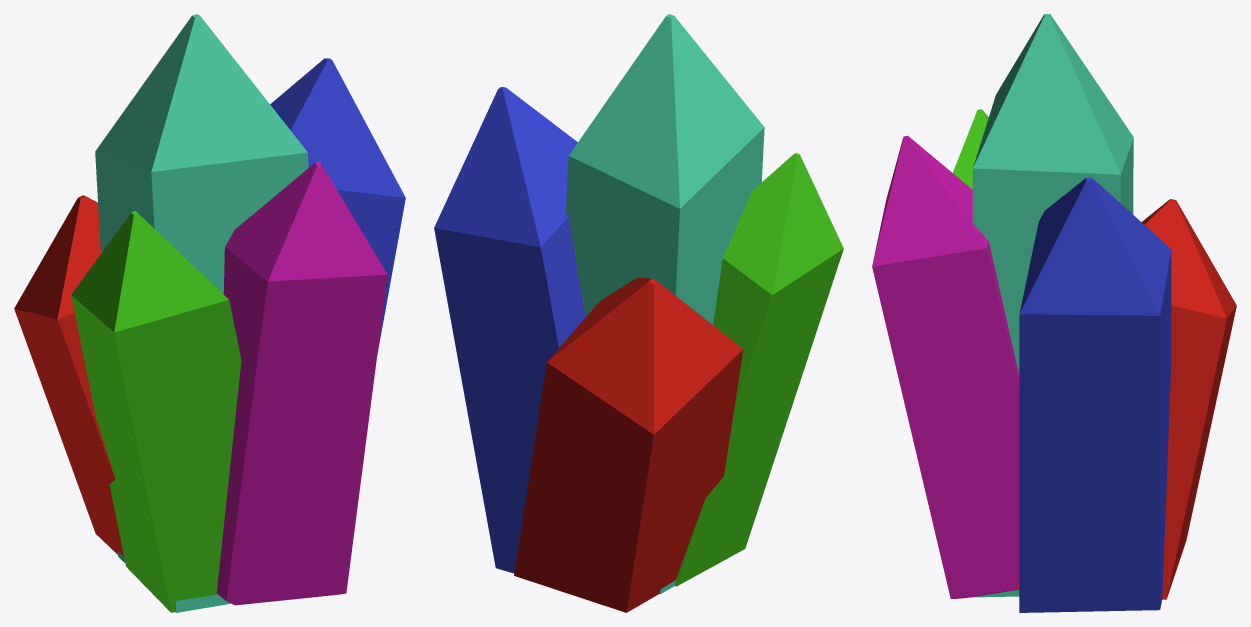
Rendered from Multicoloured_Crystal.obj.
The picture shows the model from 3 angles, left to right: view 1: azimuth 30°, elevation 25°; view 2: azimuth 150°, elevation 25°; view 3: azimuth 270°, elevation 25°; orthographic projection. The views are drawn at different scales.
Visible parts, largest first — view 1: Cube.003, Cube.002, Cube, Cube.004, Cube.001; view 2: Cube.004, Cube.001, Cube, Cube.002; view 3: Cube.001, Cube.003, Cube, Cube.004, Cube.002.
Boxes of the visible parts, <box> form: Cube.003: <box>216,162,387,605</box>; Cube.002: <box>71,211,241,612</box>; Cube: <box>95,14,308,612</box>; Cube.004: <box>14,195,123,556</box>; Cube.001: <box>270,58,405,354</box>; Cube.004: <box>514,277,743,612</box>; Cube.001: <box>434,87,585,573</box>; Cube: <box>565,14,764,594</box>; Cube.002: <box>675,153,843,586</box>; Cube.001: <box>1019,177,1171,612</box>; Cube.003: <box>872,136,1019,598</box>; Cube: <box>972,14,1133,597</box>; Cube.004: <box>1017,199,1236,599</box>; Cube.002: <box>953,109,988,189</box>.
Size of the model in its own units: 3.73 by 6.15 by 3.78.
